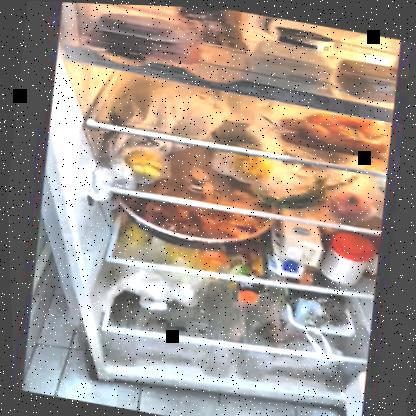broccoli: (280, 284, 354, 335)
butter: (334, 54, 398, 99)
carrot: (278, 101, 389, 156)
cheese: (242, 39, 333, 90)
green_chillies: (254, 171, 330, 212)
lemon: (121, 144, 168, 182), (230, 150, 275, 181)
milk: (261, 216, 324, 278)
salami: (88, 5, 201, 65)
tomato: (327, 186, 372, 220)
yoghurt: (273, 21, 335, 49)
